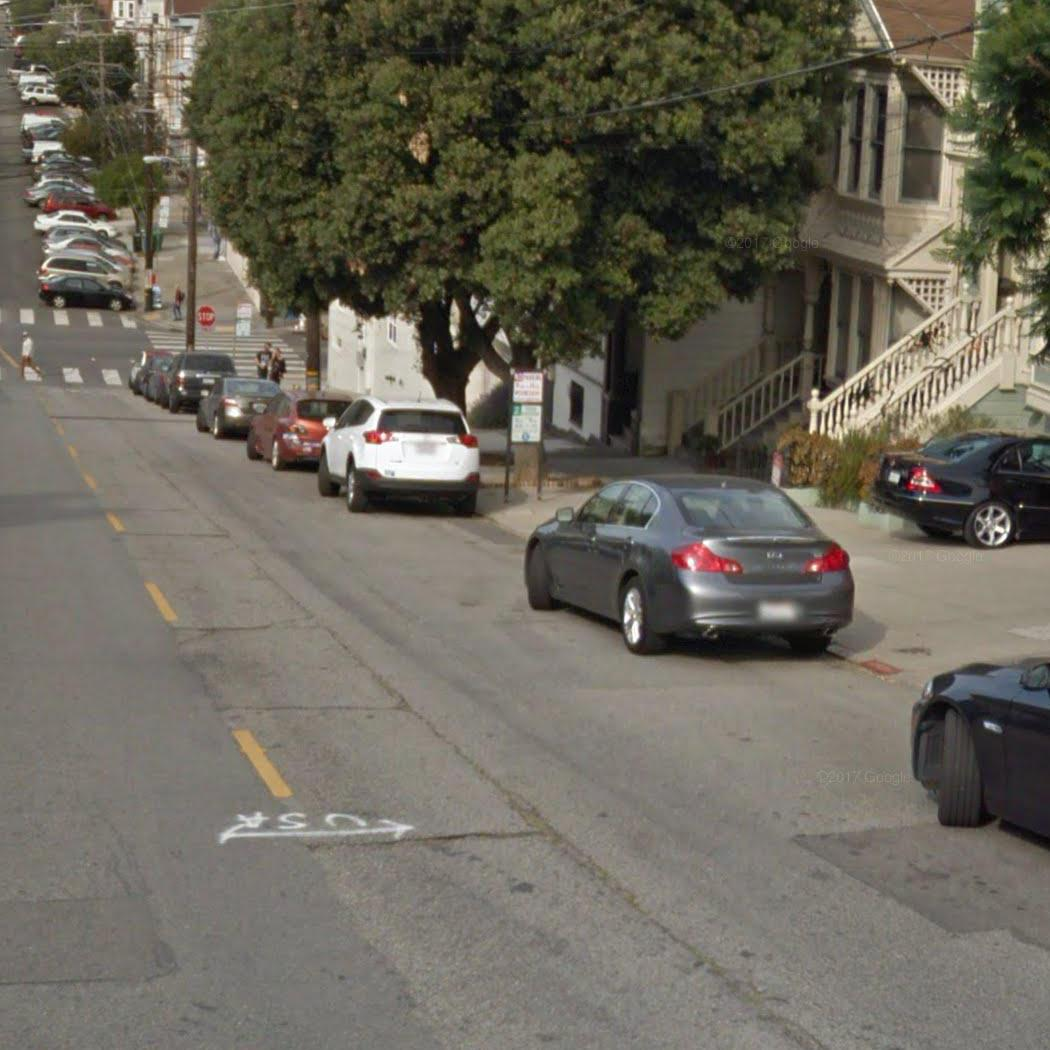2 Hour Parking: (511, 404, 545, 443)
No Parking: (511, 369, 545, 404)
